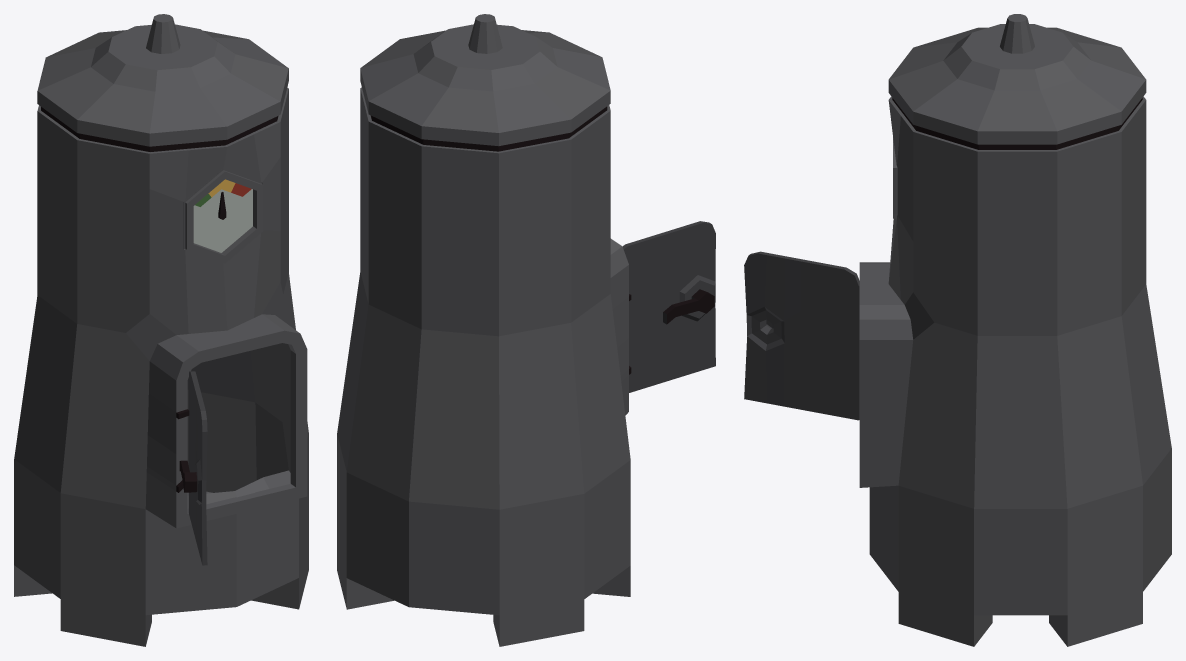
File: LowpolyBoiler_ANI.fbx
The picture shows the model from 3 angles, left to right: view 1: azimuth 30°, elevation 25°; view 2: azimuth 150°, elevation 25°; view 3: azimuth 270°, elevation 25°; orthographic projection.
Parts seen in each view (by area): view 1: Cylinder, Cylinder.001; view 2: Cylinder, Cylinder.001; view 3: Cylinder, Cylinder.001.
Boxes of the visible parts, x1,y1,x2,y2 form: Cylinder: (14, 14, 308, 646); Cylinder.001: (179, 371, 207, 565); Cylinder: (337, 14, 631, 646); Cylinder.001: (622, 221, 715, 392); Cylinder: (859, 14, 1171, 646); Cylinder.001: (744, 251, 859, 420).
Size of the model in its own units: 223 by 487 by 332.
